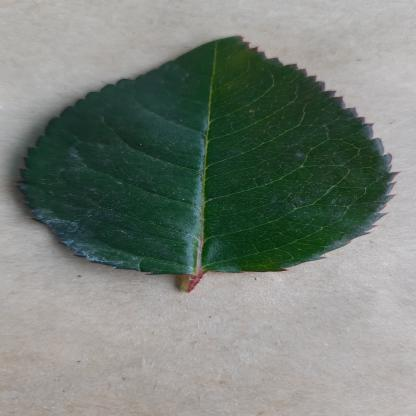normal: (13, 34, 402, 278)
